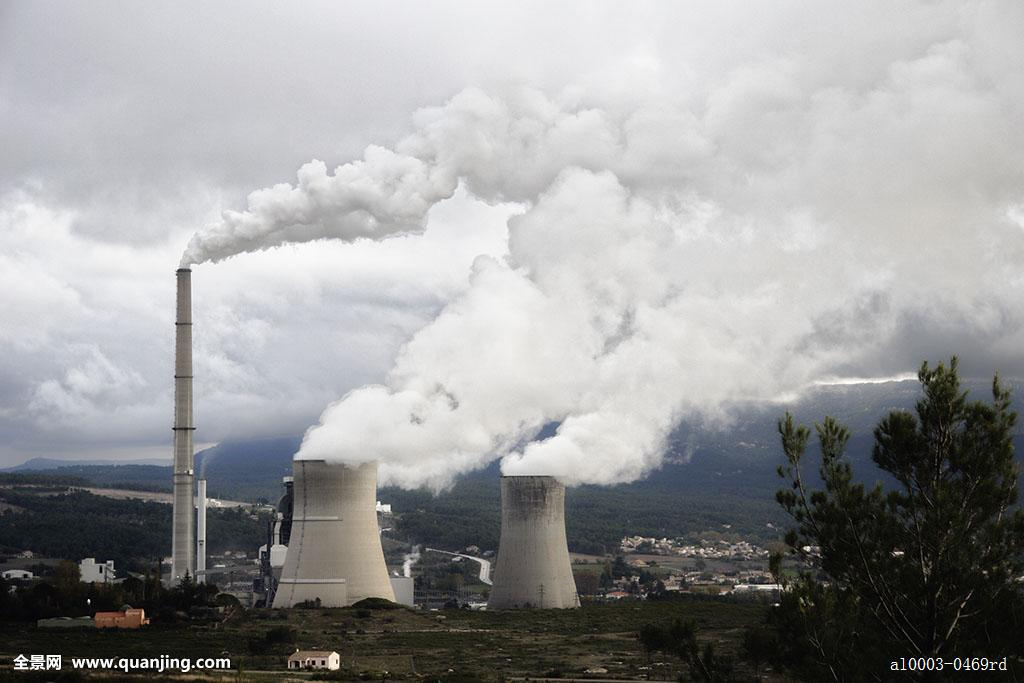dust: (284, 163, 672, 475), (165, 77, 482, 286), (489, 288, 816, 488)
